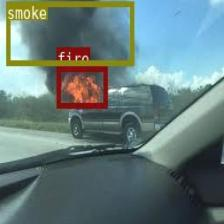fire: (56, 65, 106, 108)
smoke: (6, 1, 133, 65)
